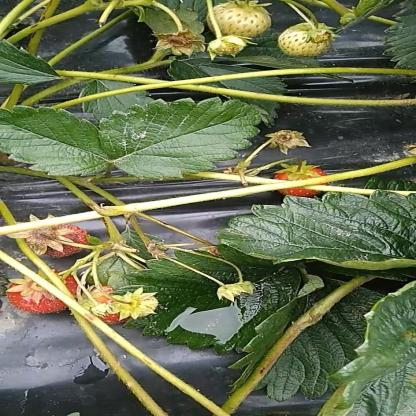ripe: (3, 276, 80, 316), (81, 282, 143, 326), (30, 220, 88, 259), (276, 158, 328, 200)
unripe: (204, 2, 278, 40), (278, 22, 340, 60), (112, 291, 158, 317)
